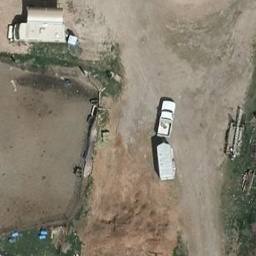car: (155, 99, 177, 140)
